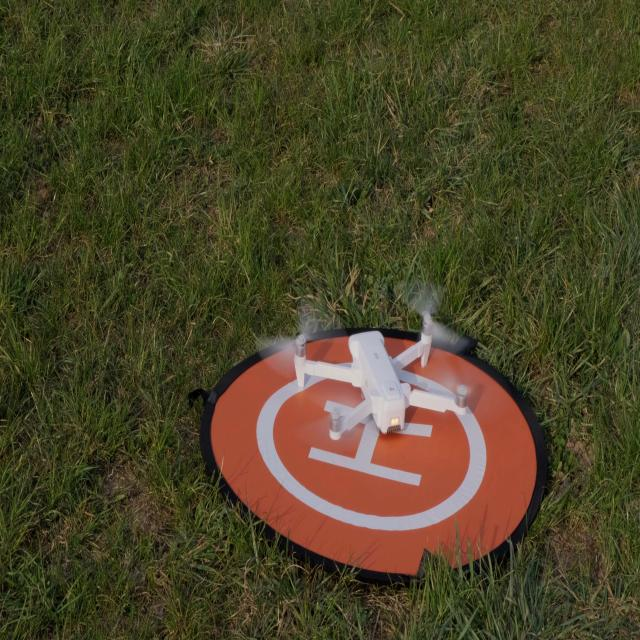drone: (293, 310, 475, 441)
